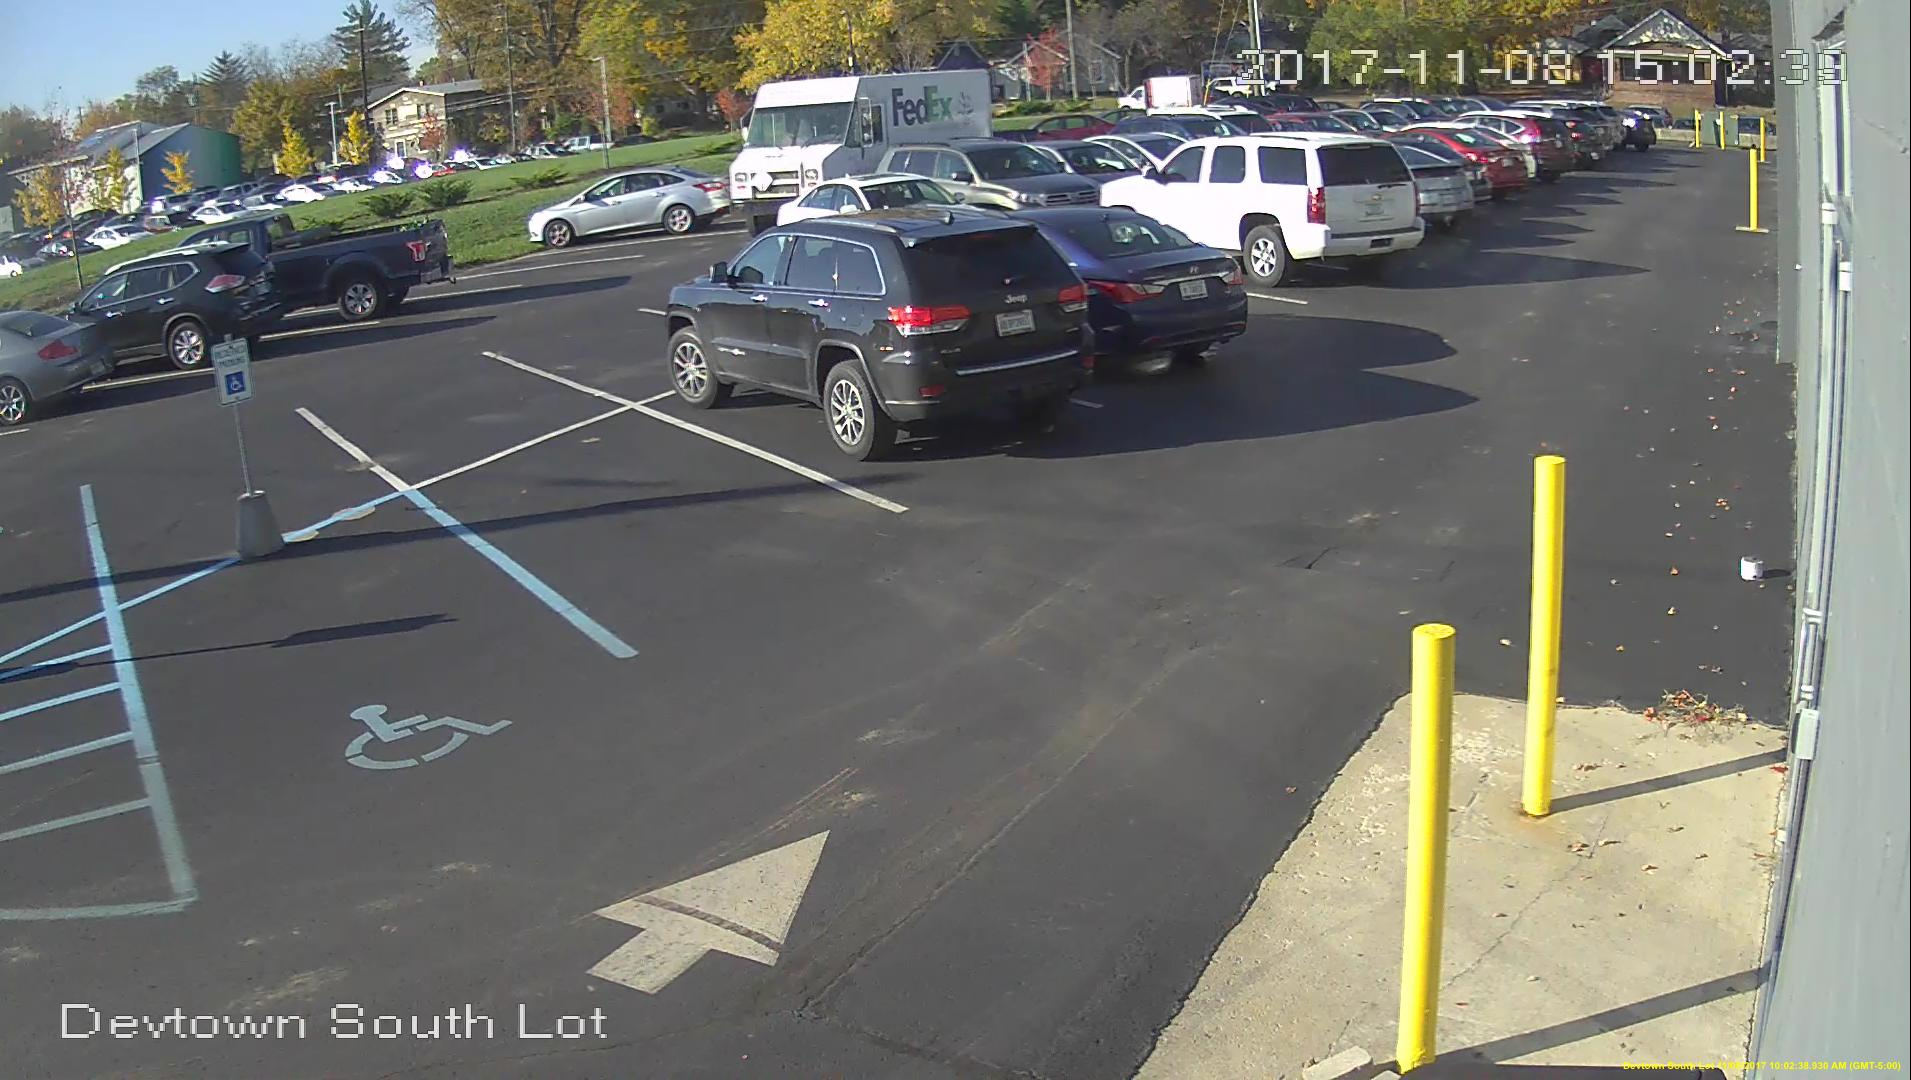fedex_truck: (722, 62, 999, 210)
